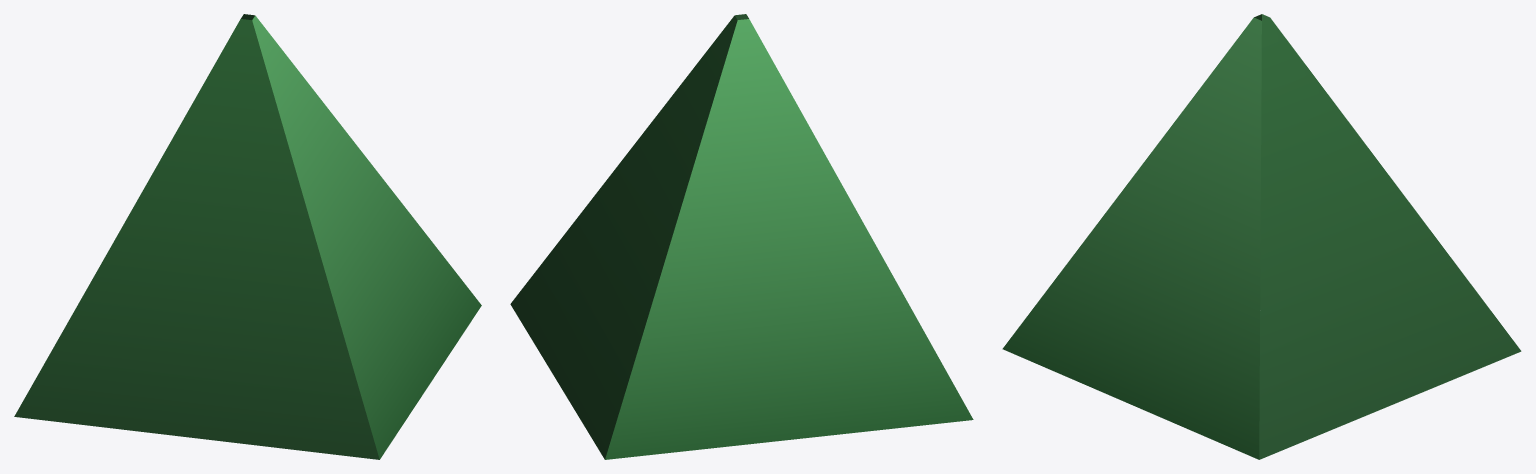
File: pyramid-green.fbx
The picture shows the model from 3 angles, left to right: view 1: azimuth 30°, elevation 25°; view 2: azimuth 150°, elevation 25°; view 3: azimuth 270°, elevation 25°; orthographic projection. The views are drawn at different scales.
Visible parts, largest first — view 1: pyramid-green; view 2: pyramid-green; view 3: pyramid-green.
Boxes of the visible parts, box(x1,y1,x2,y2) form: pyramid-green: box(14, 14, 481, 459); pyramid-green: box(510, 14, 973, 459); pyramid-green: box(1002, 14, 1521, 459).
Size of the model in its own units: 0.2414 by 0.1707 by 0.2414.
